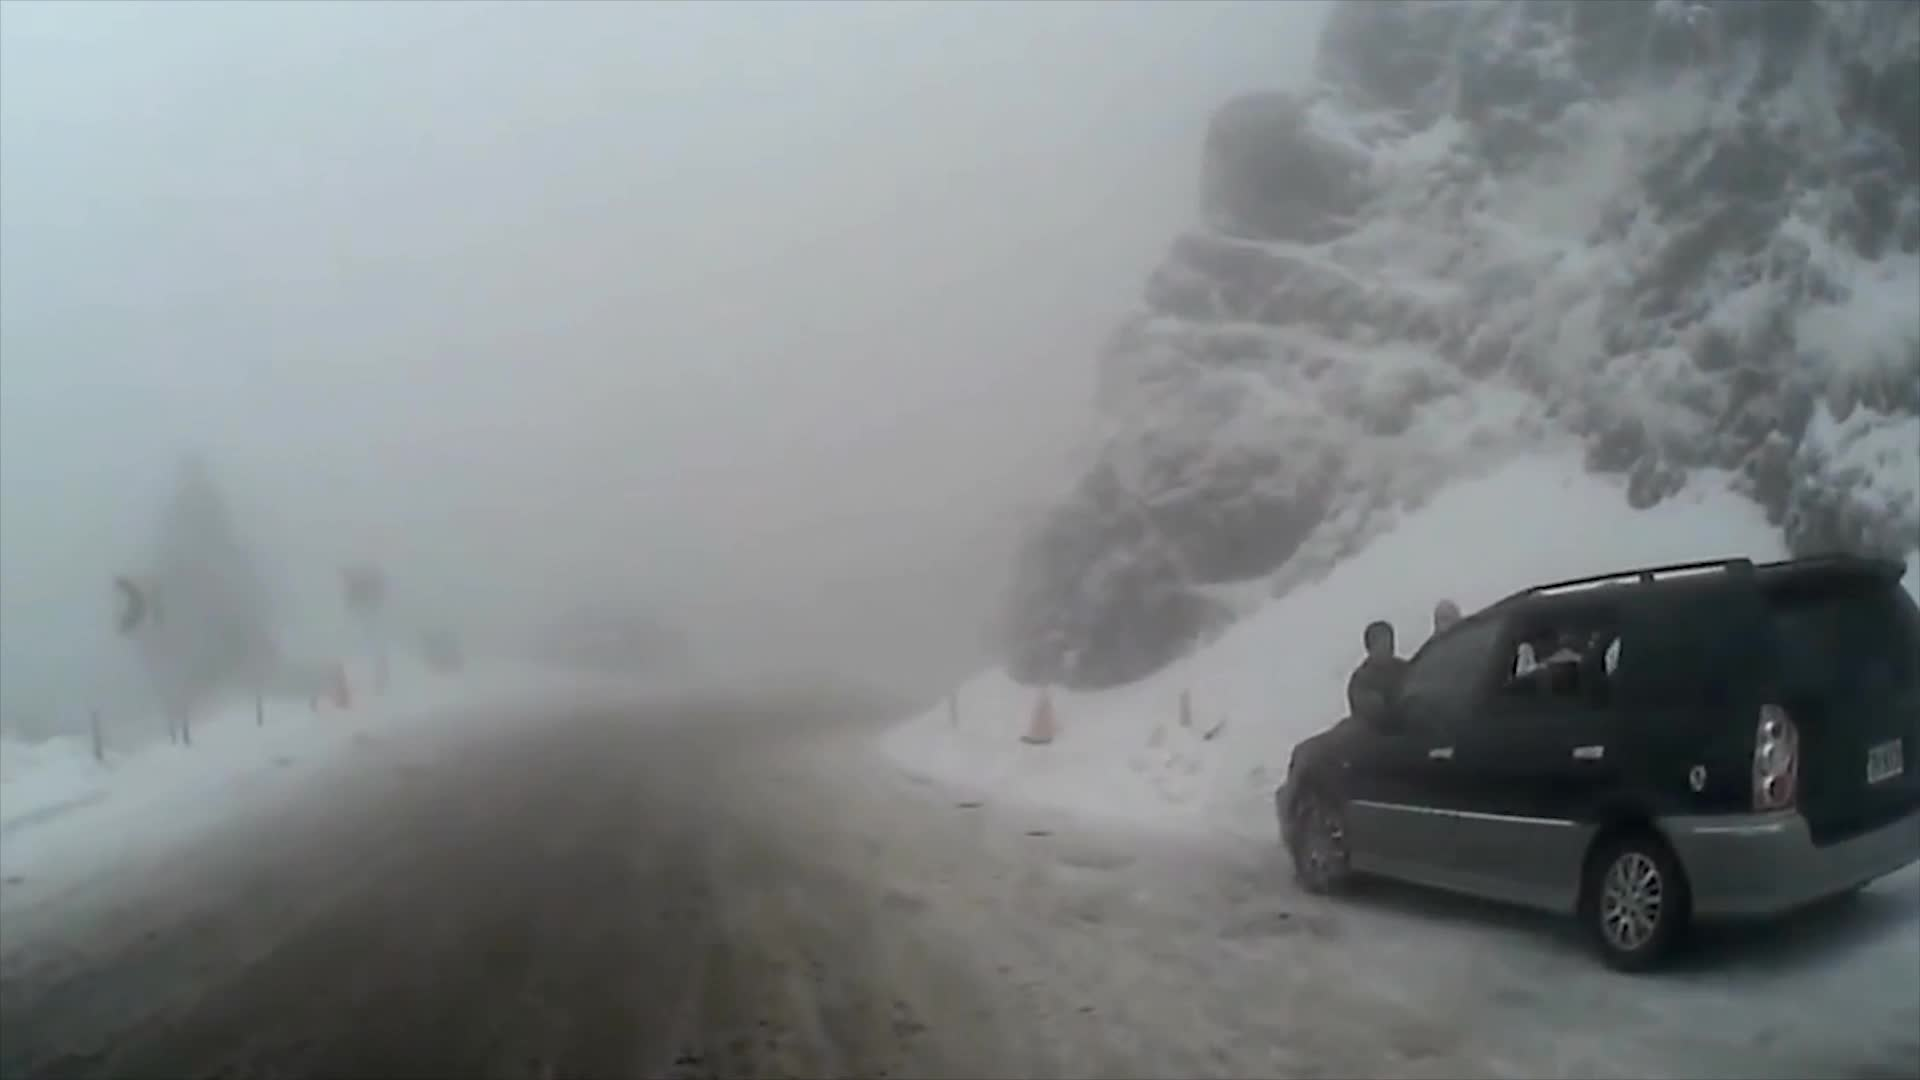pedestrian: (1344, 617, 1414, 858)
vehicle: (1272, 549, 1915, 979)
